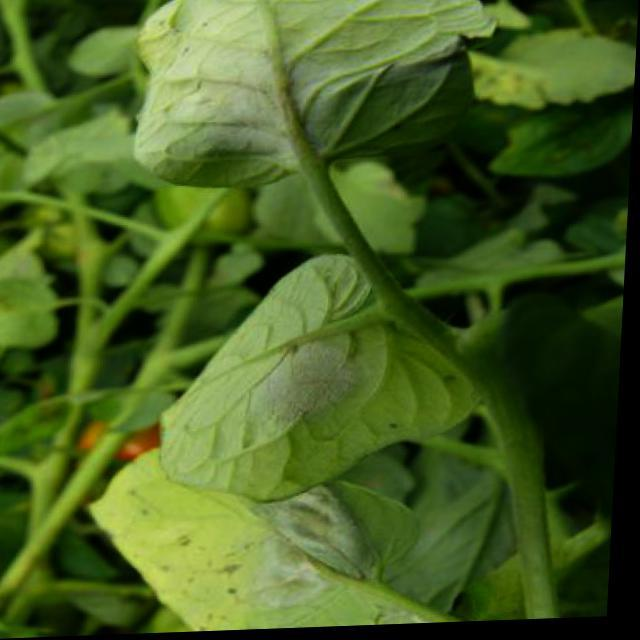Tomato mosaic virus leaf: (61, 434, 474, 636), (163, 246, 494, 498), (112, 0, 514, 193)
